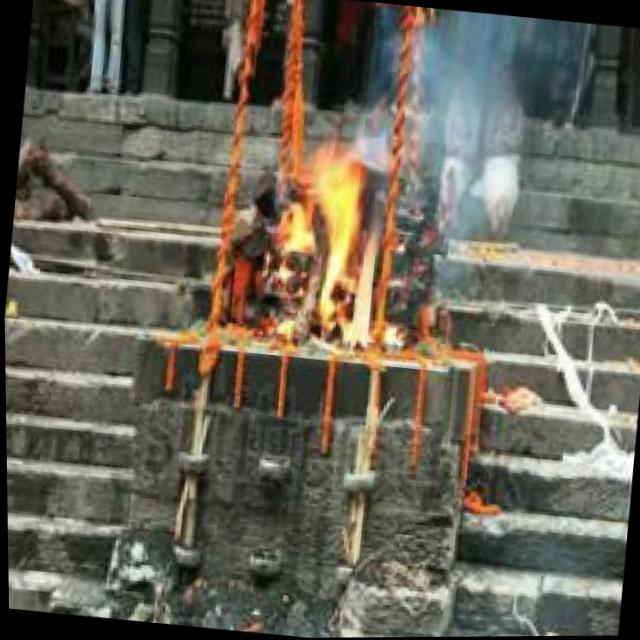Fire: (262, 131, 391, 352)
